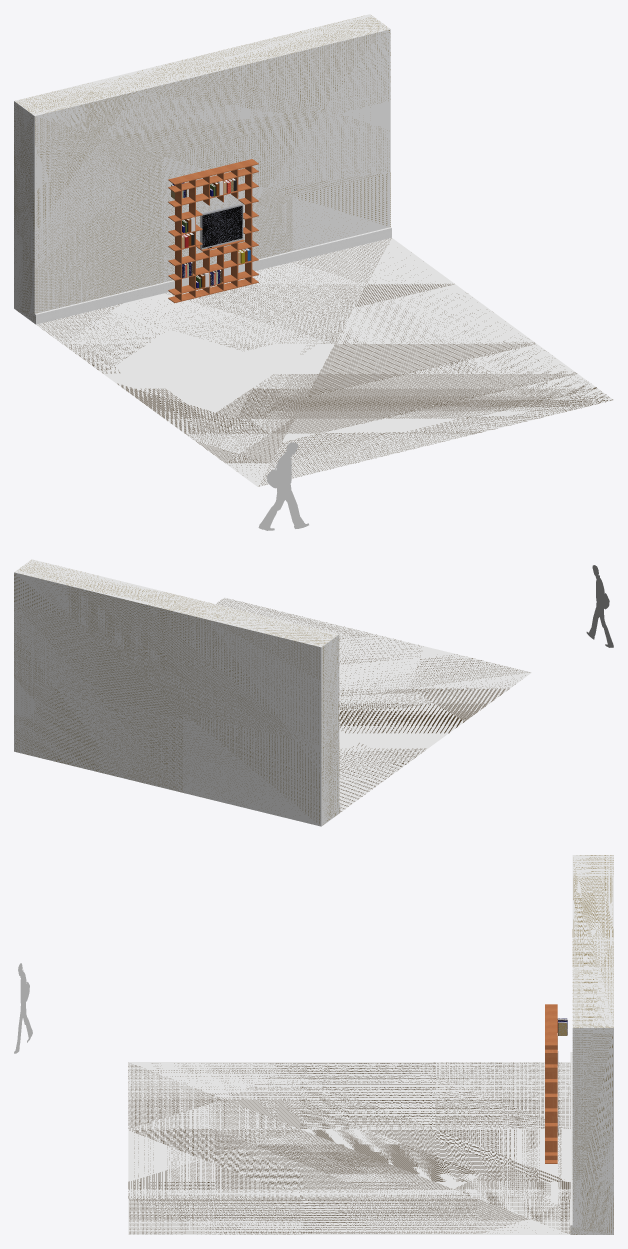
The picture shows the model from 3 angles, top to bottom: view 1: azimuth 30°, elevation 25°; view 2: azimuth 150°, elevation 25°; view 3: azimuth 270°, elevation 25°; orthographic projection. The views are drawn at different scales.
Parts seen in each view (by area): view 1: SketchUp (×3), _2D_Man_Backpack, group_32; view 2: SketchUp (×2), _2D_Man_Backpack; view 3: SketchUp (×3), _2D_Man_Backpack.
Part boxes in pixels (x1=…): SketchUp (×3): x1=14, y1=14, x2=613, y2=486; _2D_Man_Backpack: x1=258, y1=442, x2=308, y2=530; group_32: x1=202, y1=206, x2=242, y2=247; SketchUp (×2): x1=14, y1=559, x2=531, y2=826; _2D_Man_Backpack: x1=586, y1=565, x2=613, y2=647; SketchUp (×3): x1=128, y1=855, x2=613, y2=1234; _2D_Man_Backpack: x1=14, y1=963, x2=32, y2=1053.
Bounding box in the file's own units: 345 × 446 × 170.
Materials: 24 (1 with a texture image).
